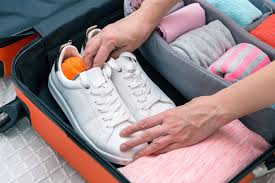suitcase: (1, 1, 275, 183)
